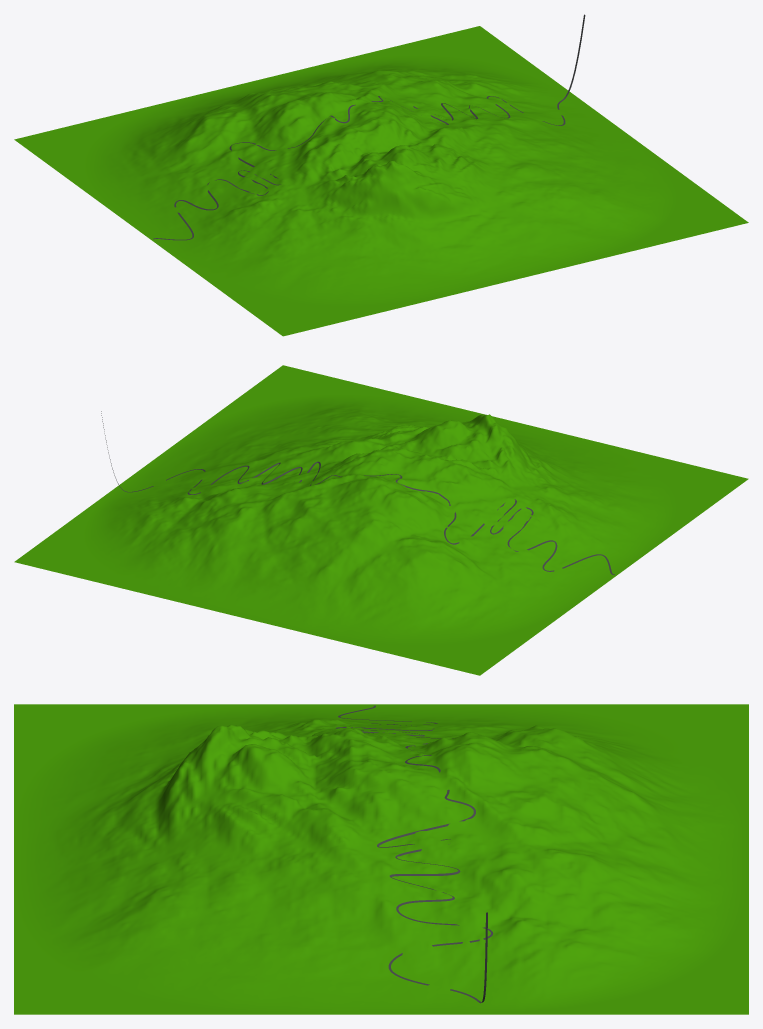
The picture shows the model from 3 angles, top to bottom: view 1: azimuth 30°, elevation 25°; view 2: azimuth 150°, elevation 25°; view 3: azimuth 270°, elevation 25°; orthographic projection. The views are drawn at different scales.
Parts seen in each view (by area): view 1: Landscape.002, Plane; view 2: Landscape.002, Plane; view 3: Landscape.002, Plane.
Part boxes in pixels (<box>): Landscape.002: <box>14,26,748,336</box>; Plane: <box>153,14,585,240</box>; Landscape.002: <box>14,365,748,675</box>; Plane: <box>101,411,614,574</box>; Landscape.002: <box>14,704,748,1014</box>; Plane: <box>335,705,493,1003</box>.
Size of the model in its own units: 254935 by 40618 by 250000.
